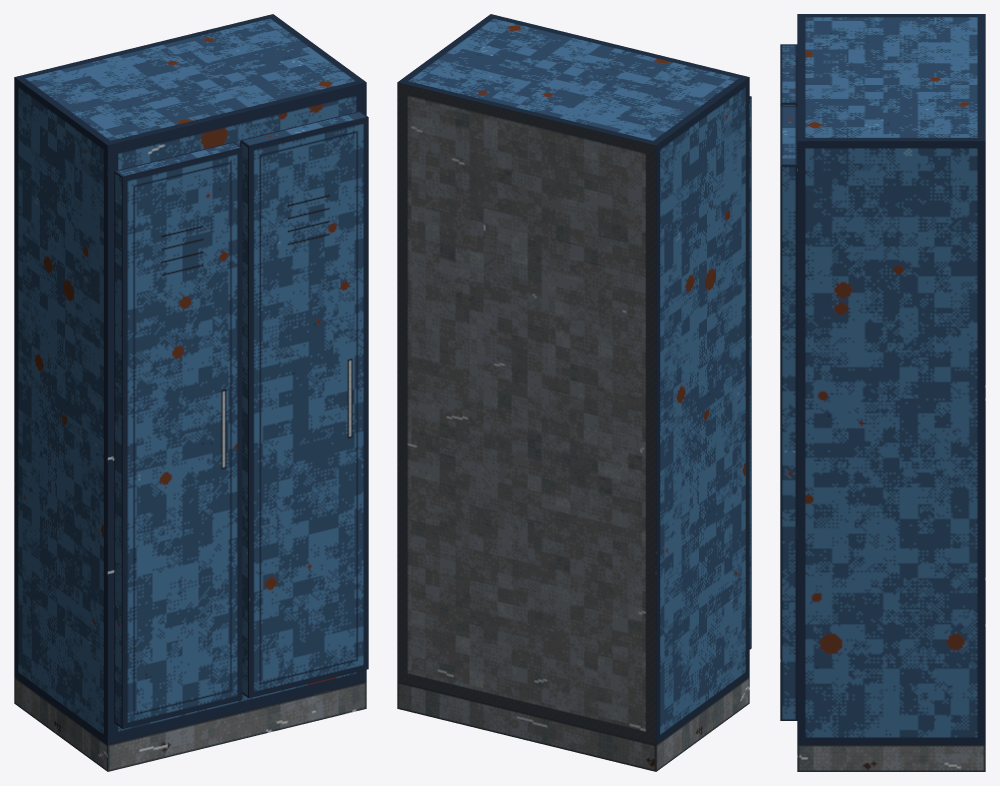
Rendered from SM_Locker_Blue_01.fbx.
The picture shows the model from 3 angles, left to right: view 1: azimuth 30°, elevation 25°; view 2: azimuth 150°, elevation 25°; view 3: azimuth 270°, elevation 25°; orthographic projection.
Parts seen in each view (by area): view 1: SM_Locker_Blue_01; view 2: SM_Locker_Blue_01; view 3: SM_Locker_Blue_01.
Boxes of the visible parts, x1,y1,x2,y2 form: SM_Locker_Blue_01: (14, 14, 368, 771); SM_Locker_Blue_01: (397, 14, 751, 771); SM_Locker_Blue_01: (780, 14, 985, 771).
Size of the model in its own units: 0.8 by 1.85 by 0.545.
Materials: 1 (1 with a texture image).
